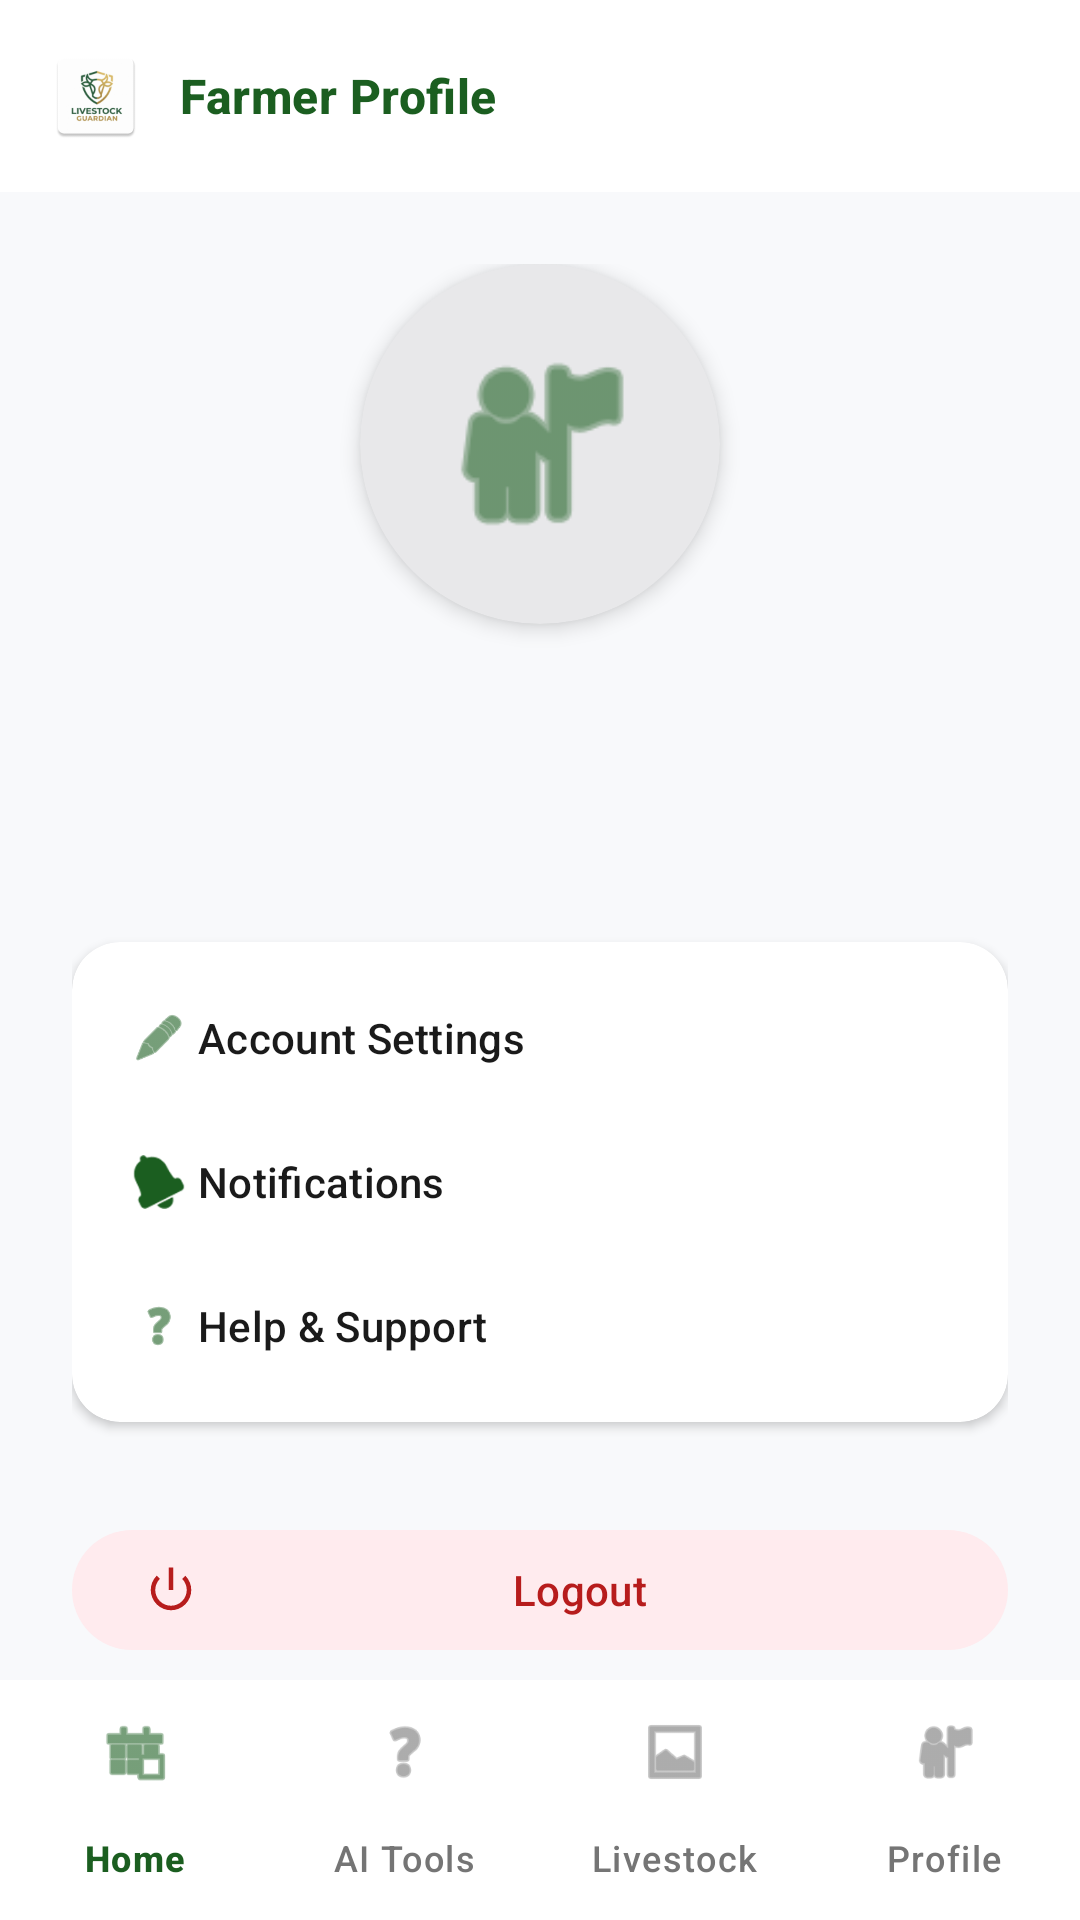

Where icons sit on this 1080*1920 app screen, as box(x1, y1, x2, y2):
myplaces: box(360, 264, 720, 624)
